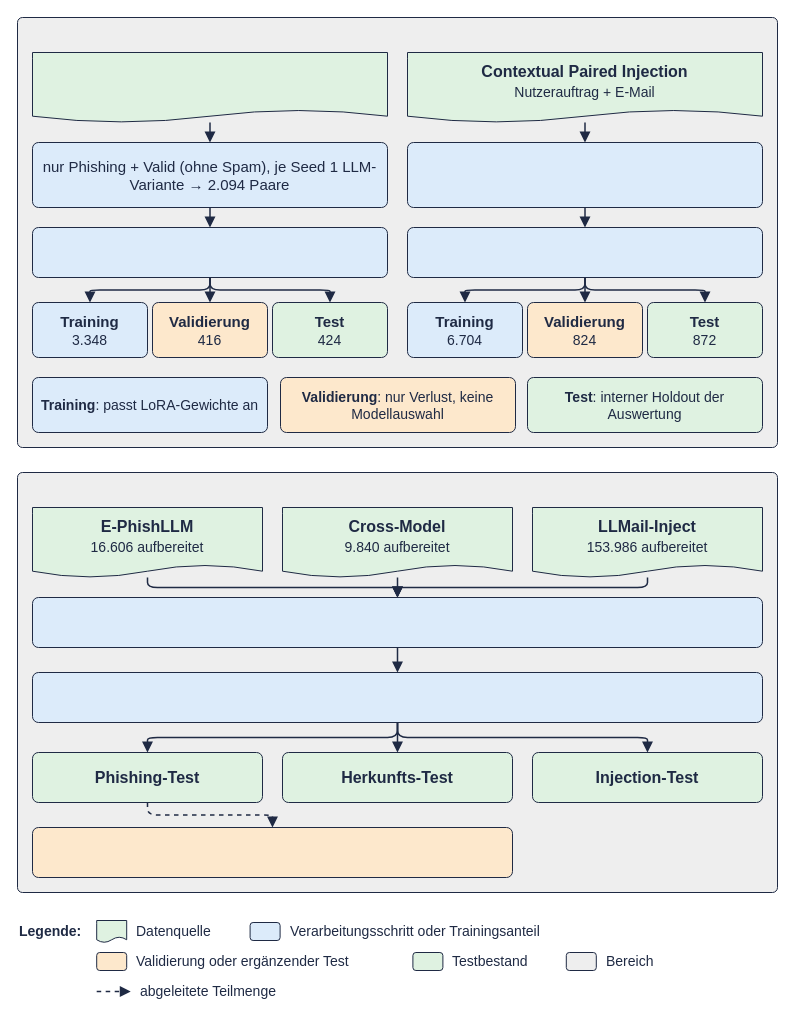
The diagram is 795 pixels wide and 1024 high, and some of its shapes have lost their labels. The box of each missing label's shape, as (x1, y1, x2, y2) in pixels:
495 Phishing-Mails → gepaarter Test (990 Eingaben): (32, 826, 512, 878)
exakte normalisierte Überschneidungen mit Trainingsquellen entfernt: (32, 596, 762, 648)
Externe Quellen: nur Auswertung, nie Training: (16, 472, 778, 892)
Gruppen-Split nach Original-ID, Seed 42: (32, 226, 388, 278)
Gruppen-Split nach Paar-ID, Seed 42: (406, 226, 762, 278)
Interne Quellen: Training und Holdout: (16, 16, 778, 448)
je Paar Angriff + harmlose Variante → 4.200 Paare: (406, 142, 762, 208)
PhishFuzzer 3.300 menschliche Seeds × 6 LLM-Varianten: (32, 52, 388, 122)
stratifizierte Stichprobe je Quelle: 1.000 Instanzen, Seed 42: (32, 672, 762, 722)
